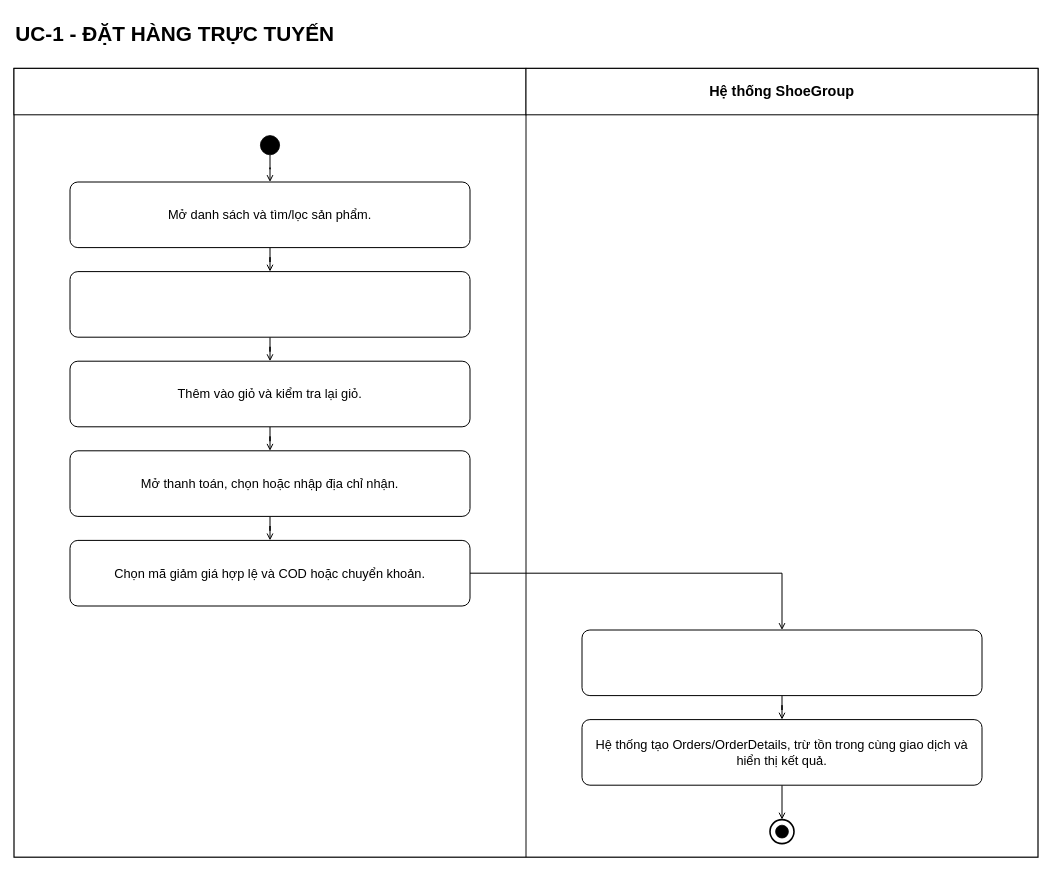
The diagram is 1053 pixels wide and 872 high, and some of its shapes have lost their labels. Here are the shapes that lost their labels. From the top down, the centre of each, then its label:
At (269,91): "Khách hàng".
At (269,304): "Xem chi tiết, chọn màu, kích cỡ và số lượng.".
At (781,662): "Máy chủ tính lại giá, phí giao, tồn và ưu đãi.".
